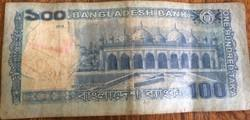100 taka: (6, 2, 249, 109)
